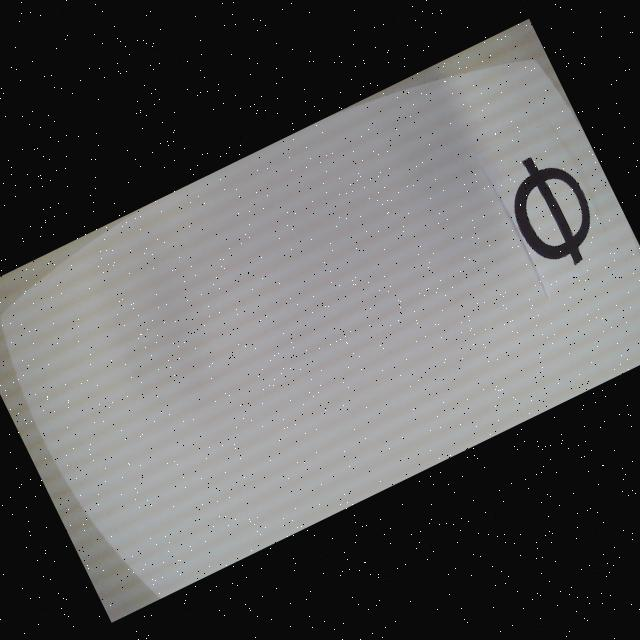PHI: (494, 142, 612, 280)
